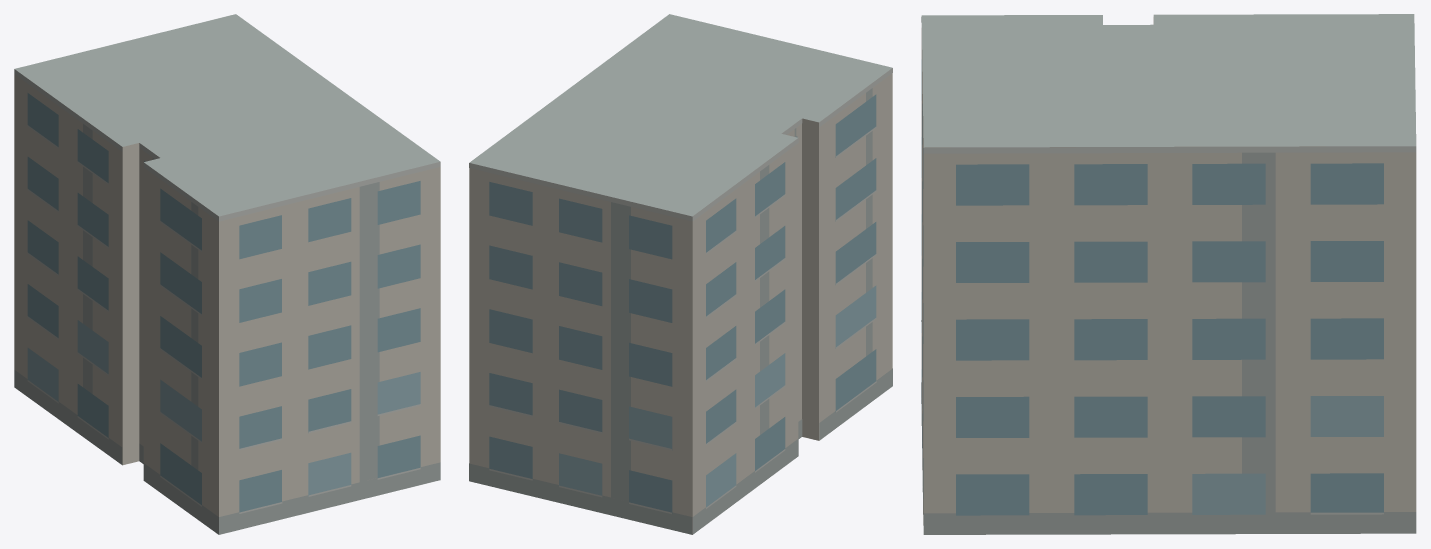
The model's file is survey-upis-32760815.glb.
The picture shows the model from 3 angles, left to right: view 1: azimuth 30°, elevation 25°; view 2: azimuth 150°, elevation 25°; view 3: azimuth 270°, elevation 25°; orthographic projection. The views are drawn at different scales.
Visible parts, largest first — view 1: survey-upis-32760815.tmp; view 2: survey-upis-32760815.tmp; view 3: survey-upis-32760815.tmp.
Part boxes in pixels (x1,y1,x2,y2): survey-upis-32760815.tmp: [14, 14, 440, 534]; survey-upis-32760815.tmp: [469, 14, 892, 534]; survey-upis-32760815.tmp: [921, 14, 1416, 534].
Size of the model in its own units: 11.28 by 15.25 by 17.66.
